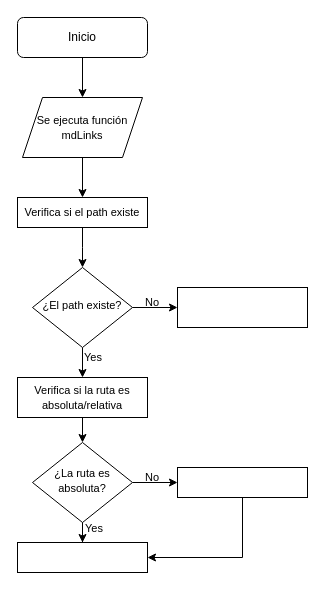
The diagram is 325 pixels wide and 590 high, and some of its shapes have lost their labels. Each missing label, with the centre of its shape:
Se convierte a absoluta: (x=242, y=482)
Se rechaza la promesa .catch(error): (x=242, y=307)
Verifica si la ruta es válida: (x=82, y=557)
